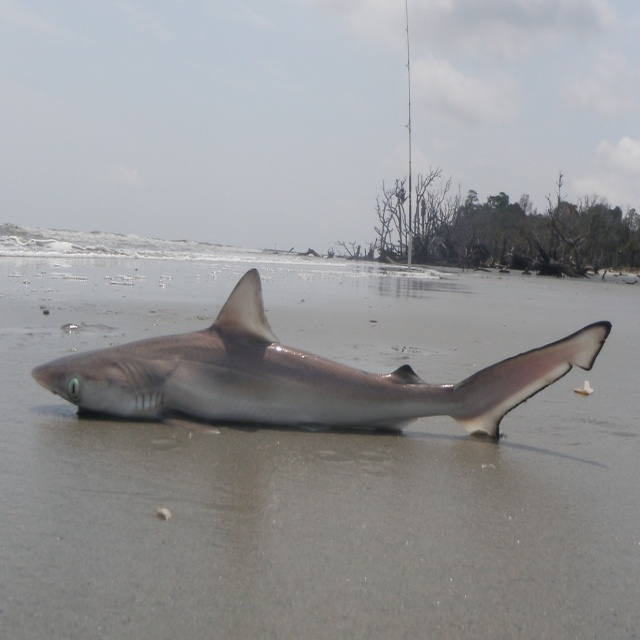Shark: (33, 269, 611, 436)
